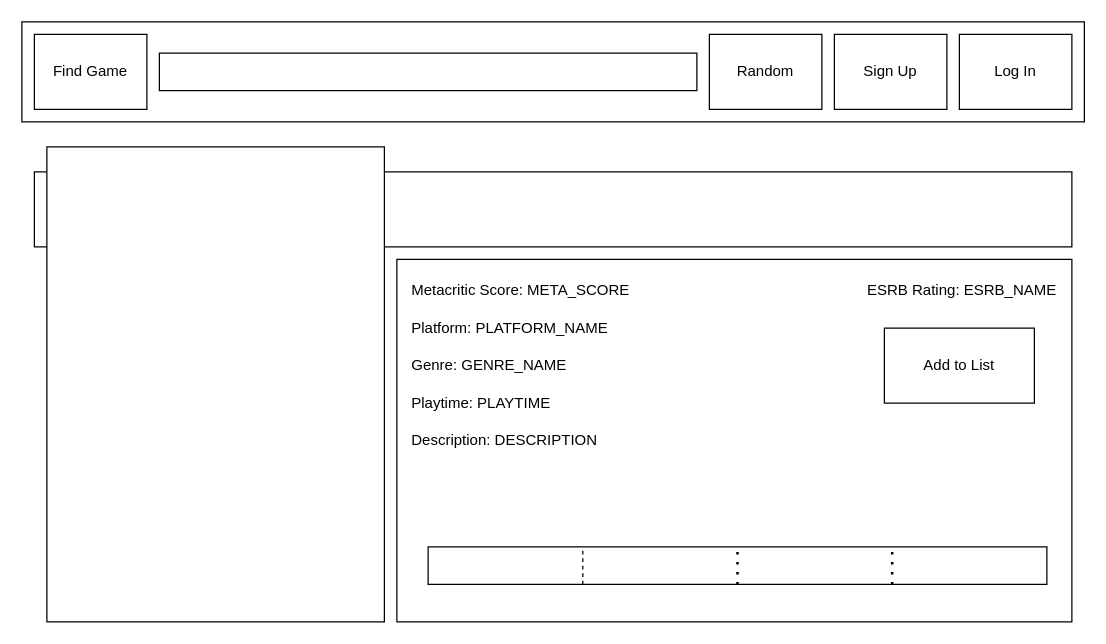
Image size: 1106x644. Some labels were removed from this diagram. The shapes that lost their labels are listed below. From the top down, each one's centre as x and y in pixels, then its label:
At (427,71): "Search:".
At (552,209): "GAME NAME".
At (215,384): "Game Picture".
